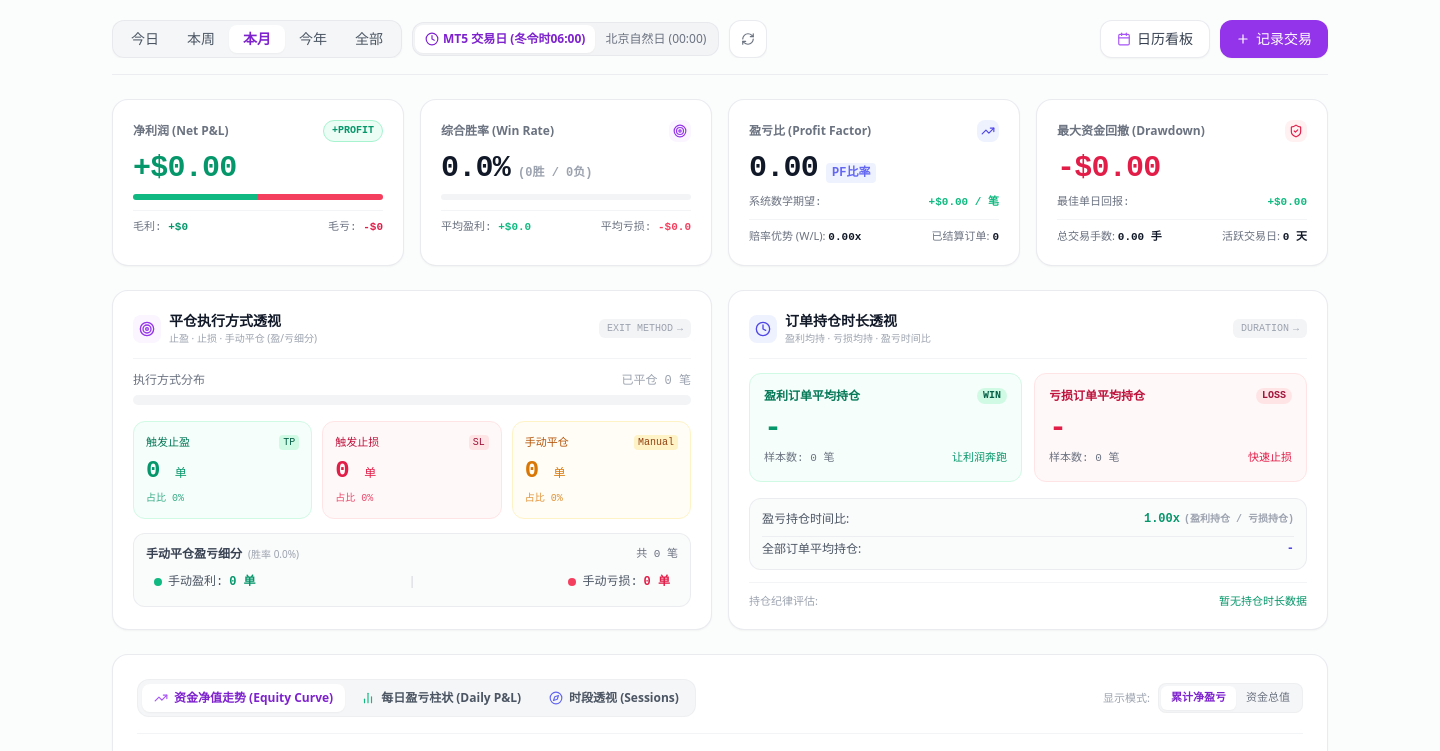
Test case: DashboardPage (TradeZella & TradeSync Style) › TimeRange localStorage caching › saves newly selected time range into localStorage upon clicking
The width and height of the screenshot is (1440, 751).
Click the button "今年".
click(313, 39)  # box top-left (285, 25), bottom-right (341, 53)
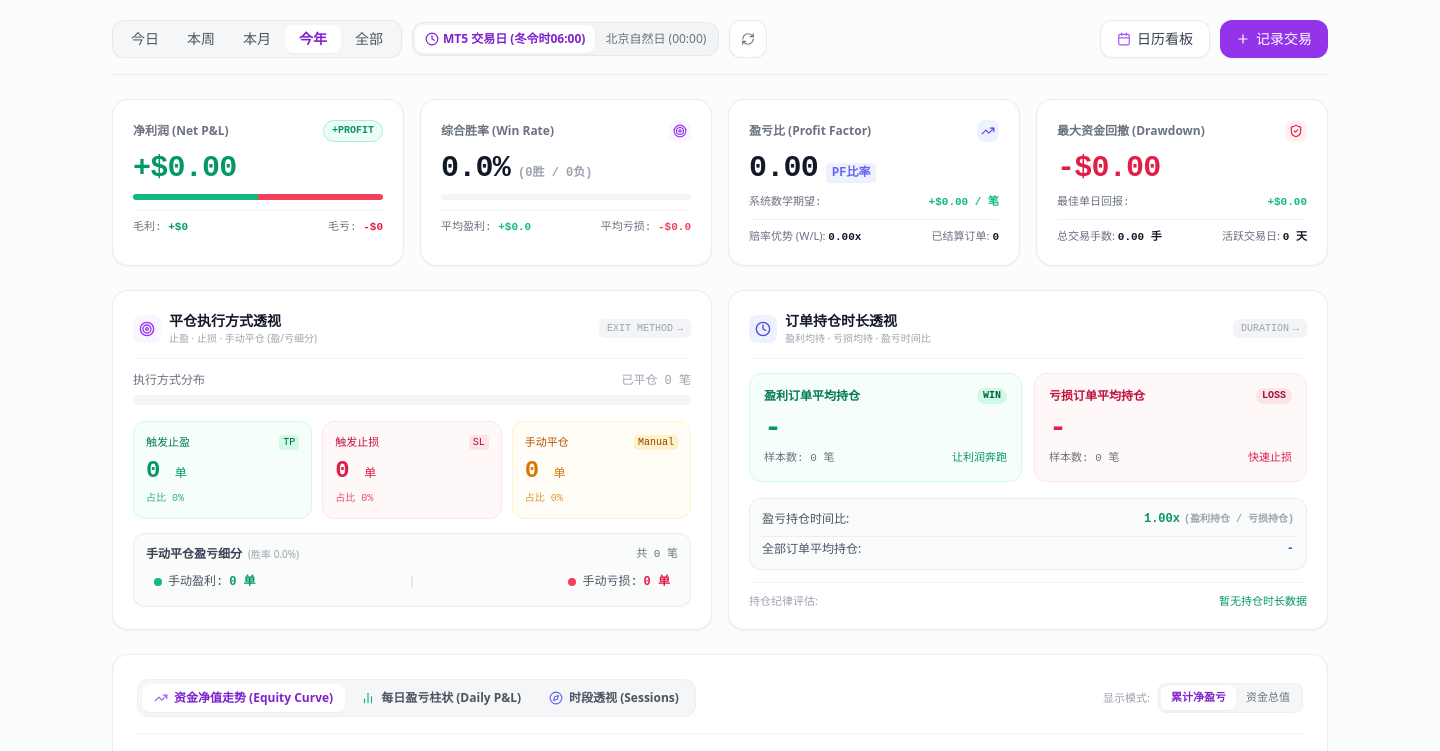
Expected: the button "今年" has class "dark:bg-purple-600", top-left (285, 25), bottom-right (341, 53)
